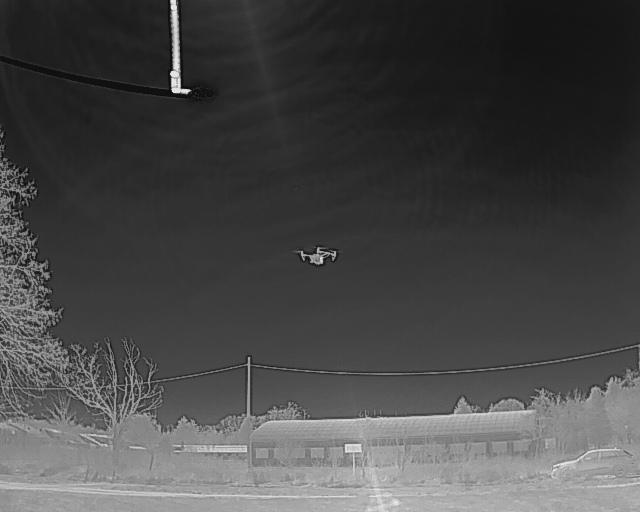drone: (295, 239, 341, 271)
